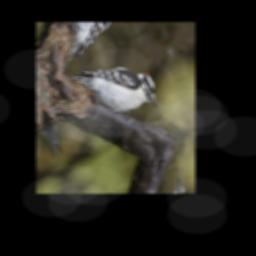Woodpecker: (70, 40, 161, 142)
